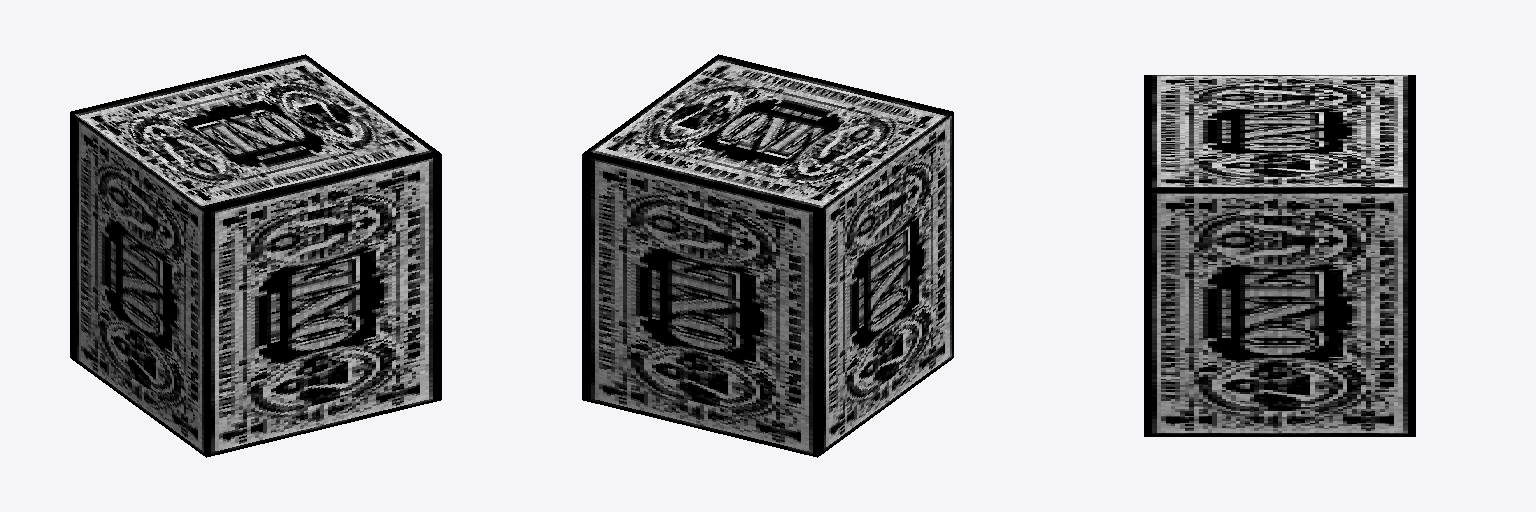
3 renders of one model, left to right at view 1: azimuth 30°, elevation 25°; view 2: azimuth 150°, elevation 25°; view 3: azimuth 270°, elevation 25°, orthographic.
Visible parts, largest first — view 1: Cube; view 2: Cube; view 3: Cube.
Boxes of the visible parts, <box> form: Cube: <box>70,54,441,457</box>; Cube: <box>582,54,953,457</box>; Cube: <box>1144,75,1415,436</box>.
Bounding box in the file's own units: 2 × 2 × 2.
1 materials, 1 textured.